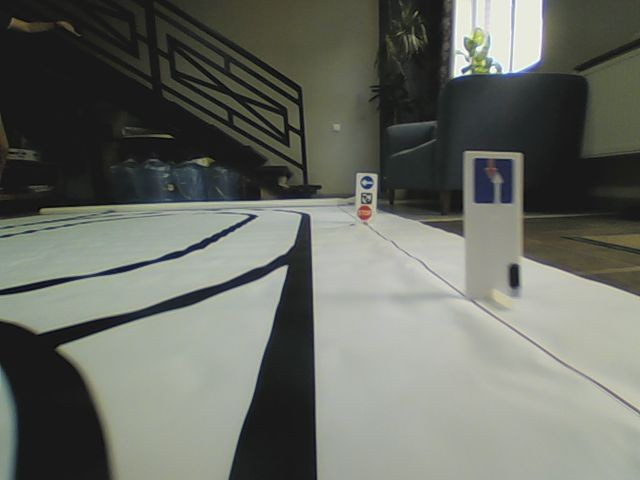Stop: (357, 205, 373, 220)
priority_movement: (473, 156, 513, 203)
